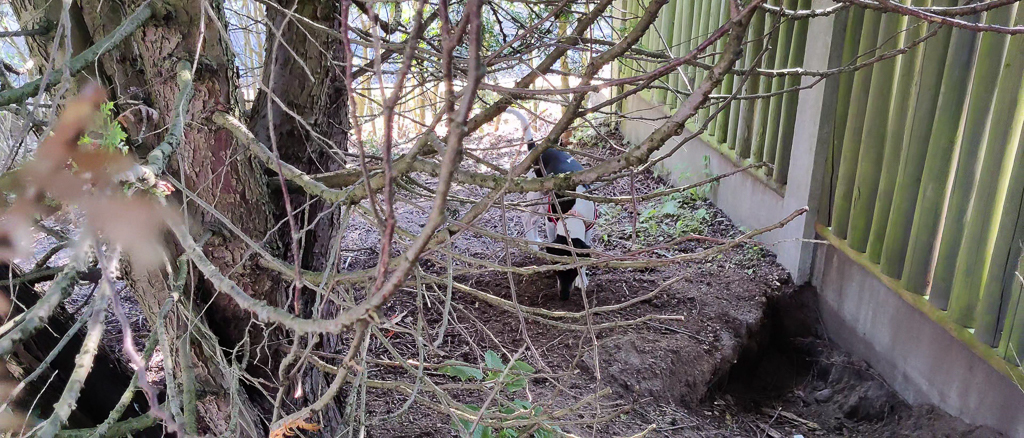Dog: (498, 103, 616, 307)
